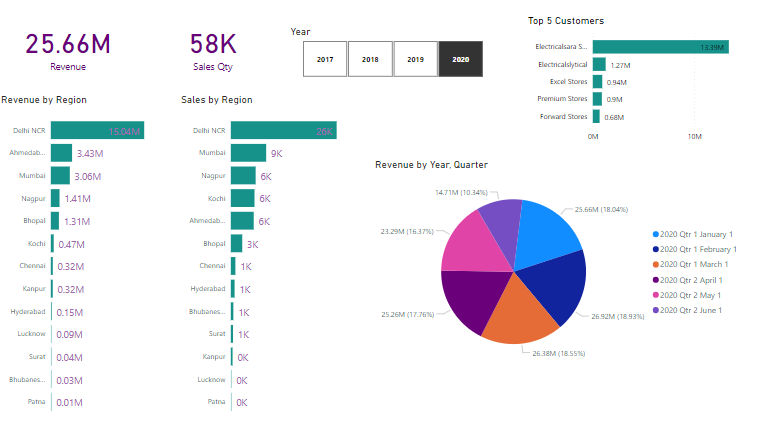

This screenshot's page, from the dashboard's own definition file:
{"tool":"powerbi","page":{"name":"Page 1","canvas":[1280,720],"ordinal":0},"visuals":[{"type":"card","fields":{"Values":["BaseMeasures.Revenue"]},"box":[0,0,233.3,156.9],"z":0},{"type":"card","fields":{"Values":["BaseMeasures.Sales Qty"]},"box":[233.3,0,248.6,156.9],"z":1000},{"type":"clusteredBarChart","title":"Top 5 Customers","fields":{"Category":["sales customers.custmer_name"],"Y":["BaseMeasures.Revenue"]},"box":[878.2,24.4,401.3,223.1],"z":2000},{"type":"slicer","title":"Year","fields":{"Values":["sales date.year"]},"box":[482.1,43.6,351.3,92.3],"z":4000},{"type":"barChart","title":"Revenue by Region","fields":{"Y":["BaseMeasures.Revenue"],"Category":["sales markets.markets_name"]},"box":[0,156.4,300,550],"z":6000},{"type":"pieChart","title":"Revenue by Year, Quarter","fields":{"Category":["sales date.cy_date.Variation.Date Hierarchy.Year","sales date.cy_date.Variation.Date Hierarchy.Quarter","sales date.cy_date.Variation.Date Hierarchy.Month","sales date.cy_date.Variation.Date Hierarchy.Day"],"Y":["BaseMeasures.Revenue"]},"box":[623.1,265.4,623.1,360.3],"z":7001},{"type":"barChart","title":"Sales by Region","fields":{"Y":["BaseMeasures.Sales Qty"],"Category":["sales markets.markets_name"]},"box":[300,156.4,300,550],"z":7002}]}

Visuals, with their boxes in screenshot pixels (x1, y1, x2, y2), scaled from the page's 1280x720 canvas onto the 762x427 screenshot:
card - BaseMeasures.Revenue: pyautogui.locateOnScreen(0, 0, 139, 93)
card - BaseMeasures.Sales Qty: pyautogui.locateOnScreen(139, 0, 287, 93)
"Top 5 Customers" clusteredBarChart: pyautogui.locateOnScreen(523, 14, 761, 147)
"Year" slicer: pyautogui.locateOnScreen(287, 26, 496, 81)
"Revenue by Region" barChart: pyautogui.locateOnScreen(0, 93, 179, 419)
"Revenue by Year, Quarter" pieChart: pyautogui.locateOnScreen(371, 157, 742, 371)
"Sales by Region" barChart: pyautogui.locateOnScreen(179, 93, 357, 419)
